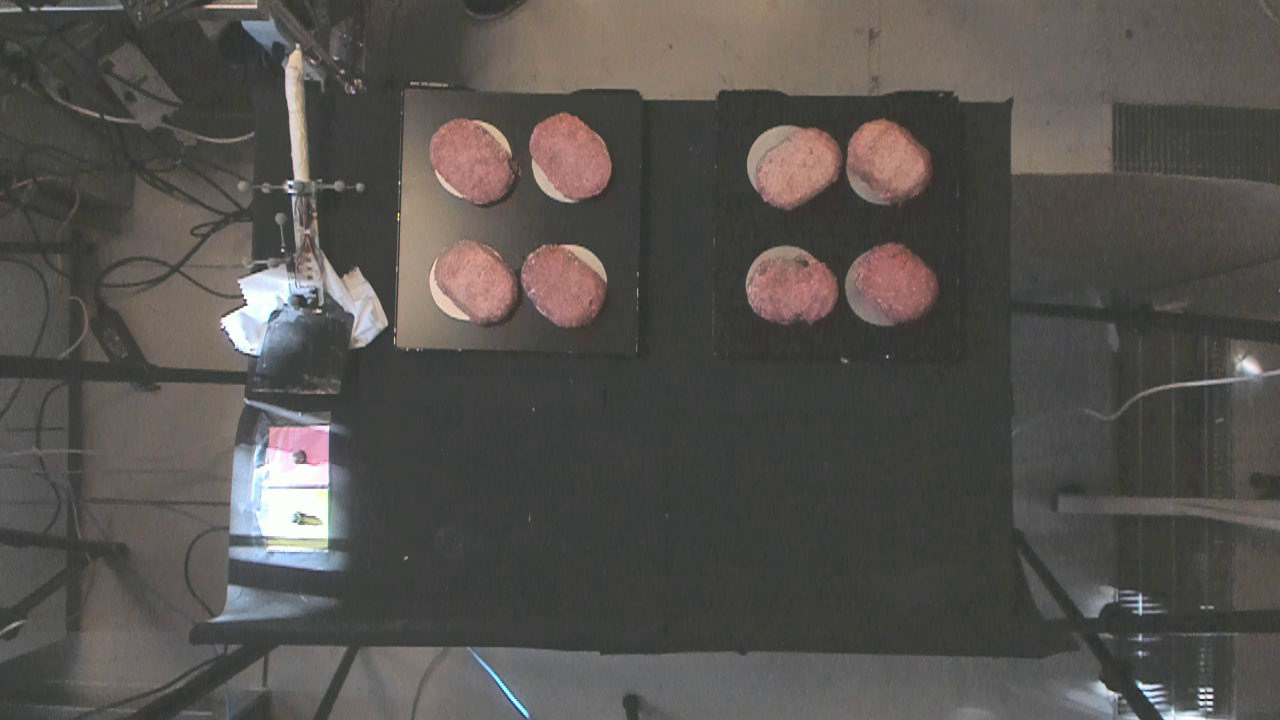hamburger: (521, 106, 619, 203), (424, 115, 516, 212), (437, 231, 516, 333), (520, 245, 605, 334), (748, 250, 842, 328), (757, 117, 837, 207), (855, 119, 932, 205), (859, 241, 940, 322)
marker: (270, 428, 327, 484)
